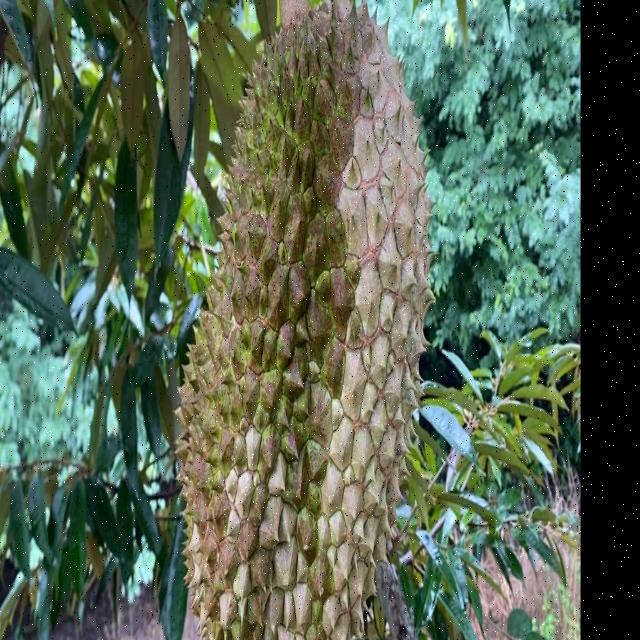RIPE: (173, 0, 430, 640)
